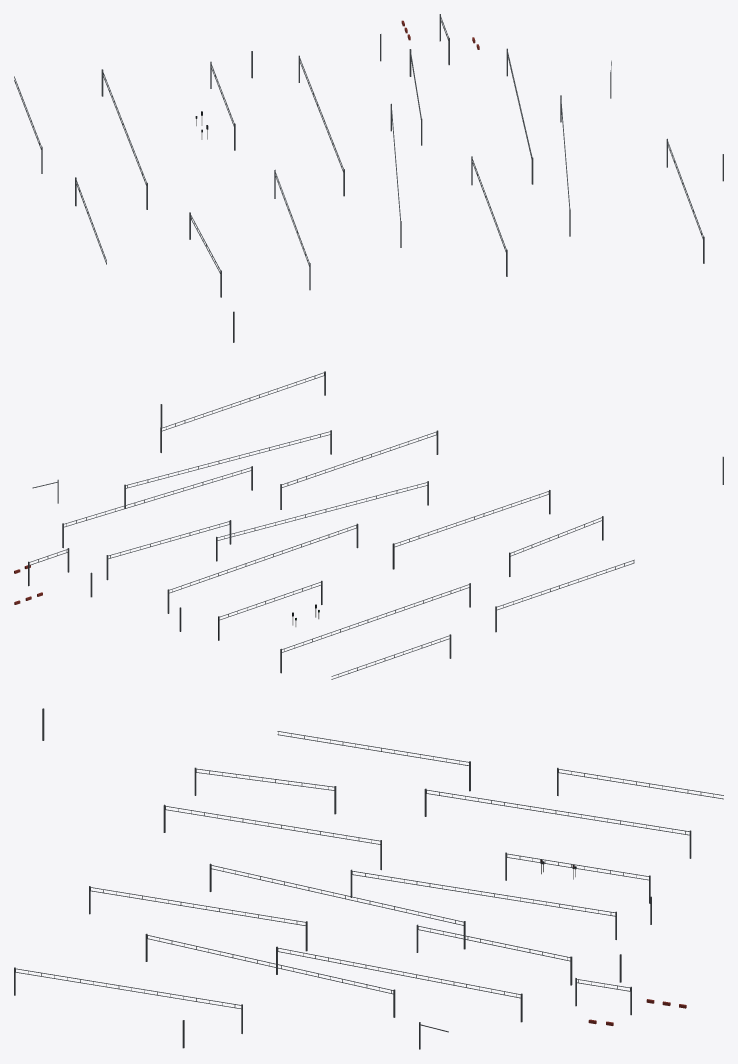
3 views of the same model, one above another, from view 1: azimuth 30°, elevation 25°; view 2: azimuth 150°, elevation 25°; view 3: azimuth 270°, elevation 25° (orthographic). The views are drawn at different scales.
Size of the model in its own units: 204 by 18.8 by 206.
